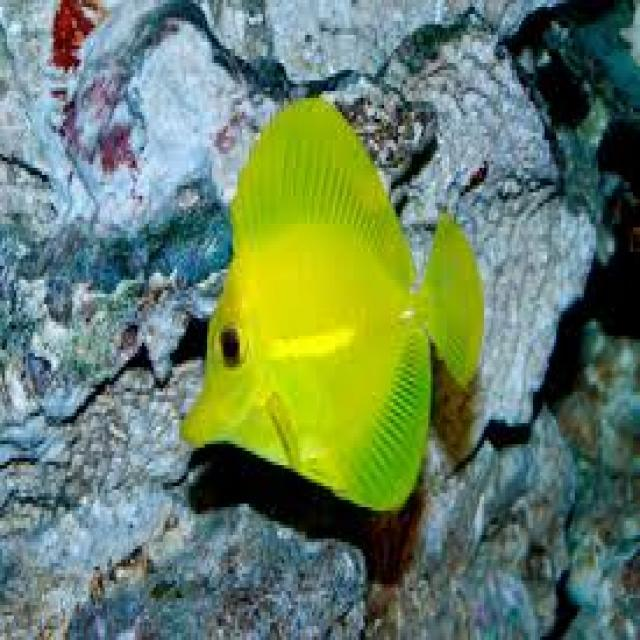YellowTang: (164, 90, 495, 516)
